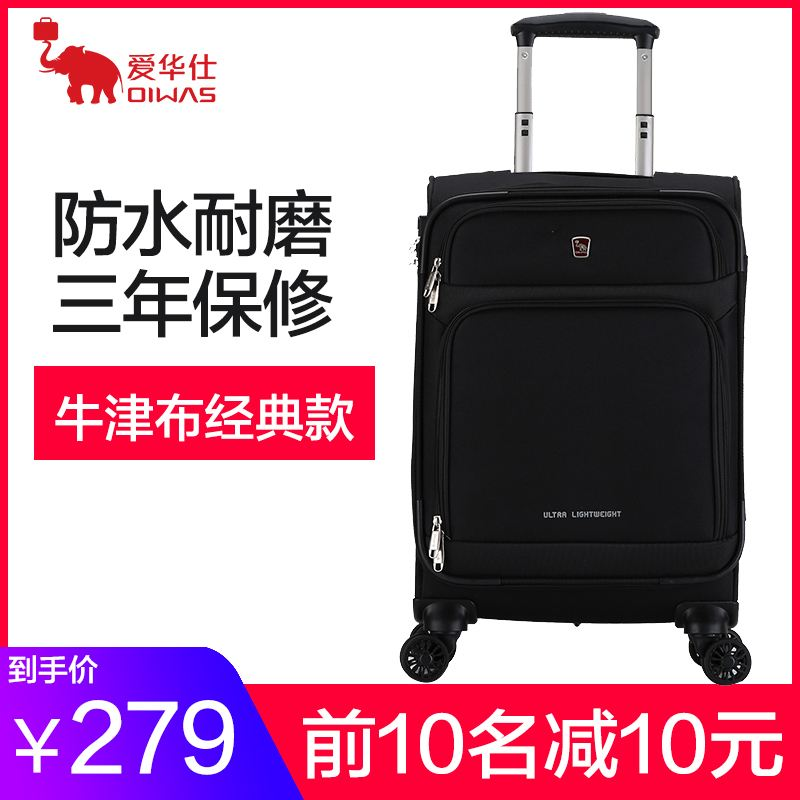box: (411, 171, 747, 622)
wheel: (688, 630, 752, 685), (399, 623, 457, 682)
